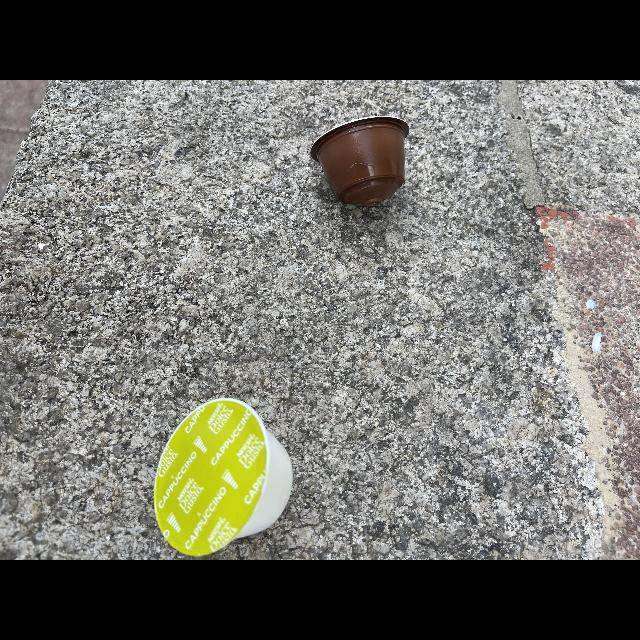intact_capsule: (151, 392, 301, 560), (306, 108, 414, 220)
